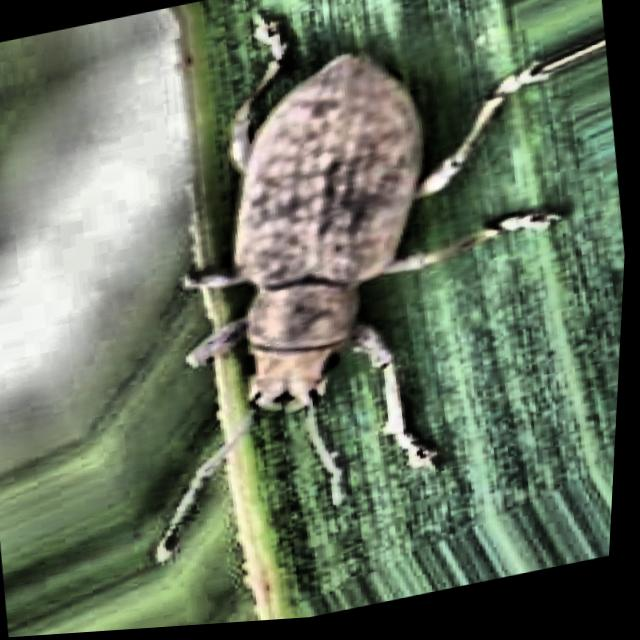Stink bug: (73, 26, 572, 522)
